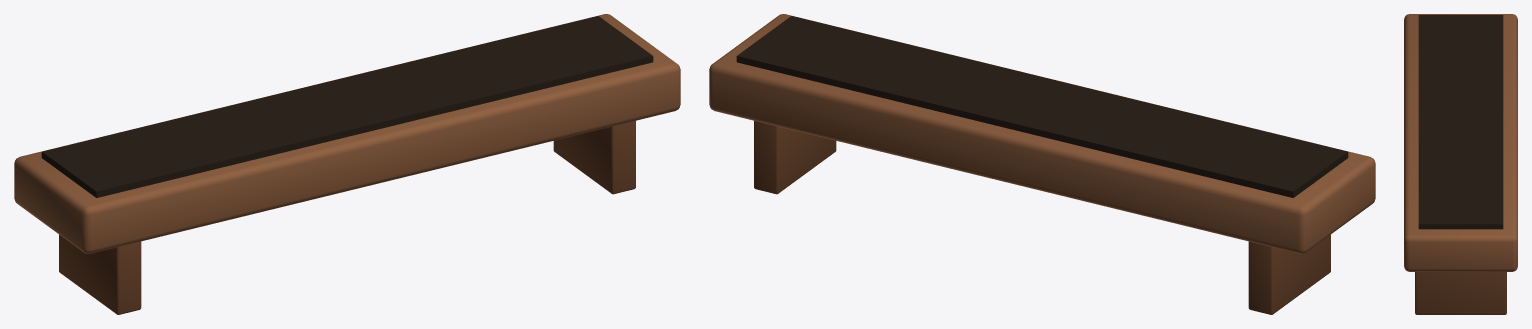
The model's file is trough.glb.
3 renders of one model, left to right at view 1: azimuth 30°, elevation 25°; view 2: azimuth 150°, elevation 25°; view 3: azimuth 270°, elevation 25°, orthographic. The views are drawn at different scales.
Visible parts, largest first — view 1: Body; view 2: Body; view 3: Body.
Part boxes in pixels (x1,y1,x2,y2): Body: (14, 14, 680, 314); Body: (709, 14, 1375, 314); Body: (1404, 14, 1517, 314).
Size of the model in its own units: 2.9 by 0.59 by 0.62.
